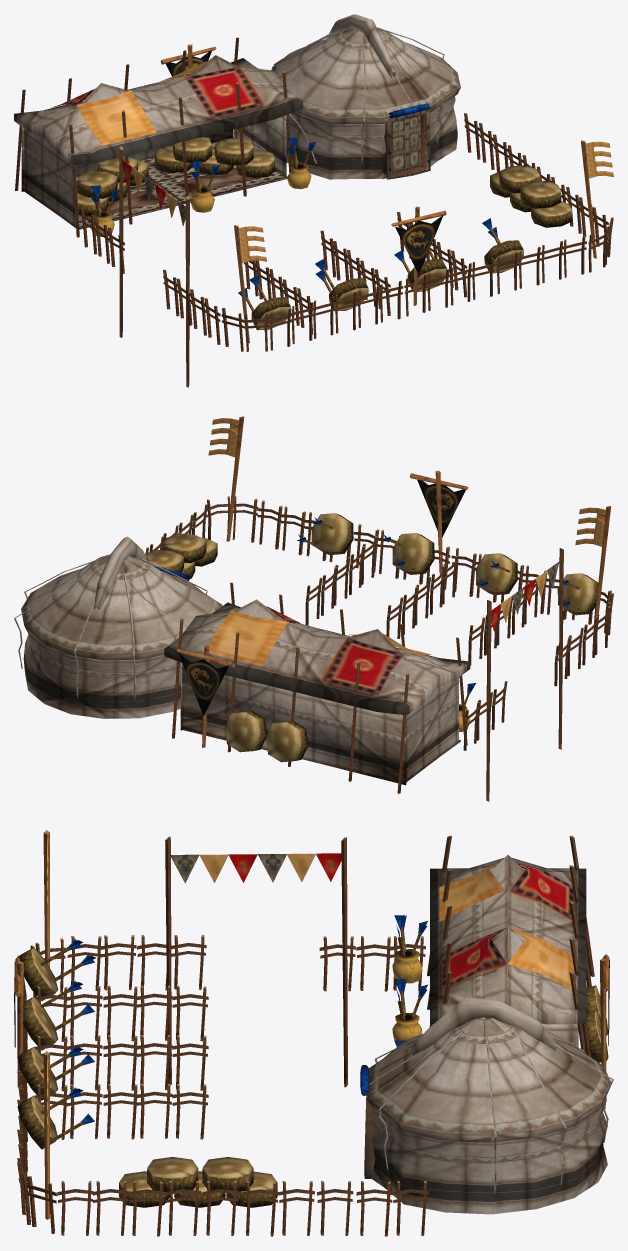
The model's file is range.dae.
3 renders of one model, top to bottom at view 1: azimuth 30°, elevation 25°; view 2: azimuth 150°, elevation 25°; view 3: azimuth 270°, elevation 25°, orthographic. The views are drawn at different scales.
Visible parts, largest first — view 1: range; view 2: range; view 3: range.
Boxes of the visible parts, x1,y1,x2,y2 form: range: [14, 14, 613, 387]; range: [14, 416, 613, 801]; range: [14, 830, 613, 1236].
Bounding box in the file's own units: 25.14 × 25.25 × 12.92.
